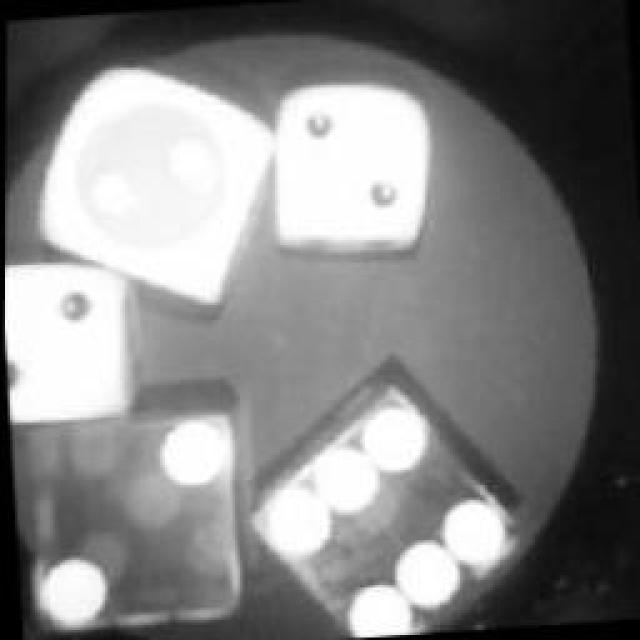dice_2: (24, 45, 284, 323), (13, 382, 258, 640), (261, 70, 441, 265), (0, 252, 145, 436)
dice_6: (230, 362, 535, 640)
